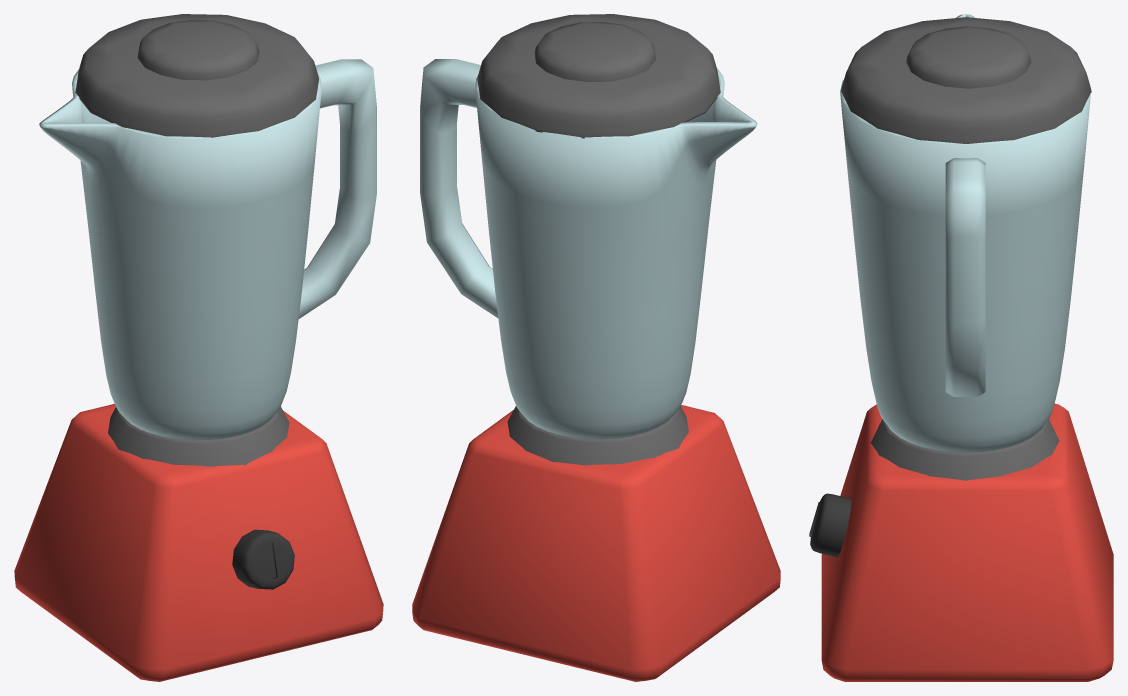
The model's file is blender.fbx.
3 renders of one model, left to right at view 1: azimuth 30°, elevation 25°; view 2: azimuth 150°, elevation 25°; view 3: azimuth 270°, elevation 25°, orthographic.
Visible parts, largest first — view 1: blender top, blender machine, blender cap, blender bottom; view 2: blender top, blender machine, blender cap, blender bottom; view 3: blender top, blender machine, blender cap, blender bottom.
Boxes of the visible parts, x1,y1,x2,y2 form: blender top: (39,59,376,440); blender machine: (14,404,383,681); blender cap: (75,14,318,137); blender bottom: (108,407,289,466); blender top: (420,59,757,439); blender machine: (412,405,780,681); blender cap: (477,14,720,138); blender bottom: (507,406,688,465); blender top: (840,14,1090,452); blender machine: (809,403,1113,681); blender cap: (841,17,1091,143); blender bottom: (870,419,1059,480).
Size of the model in its own units: 239 by 394 by 187.
